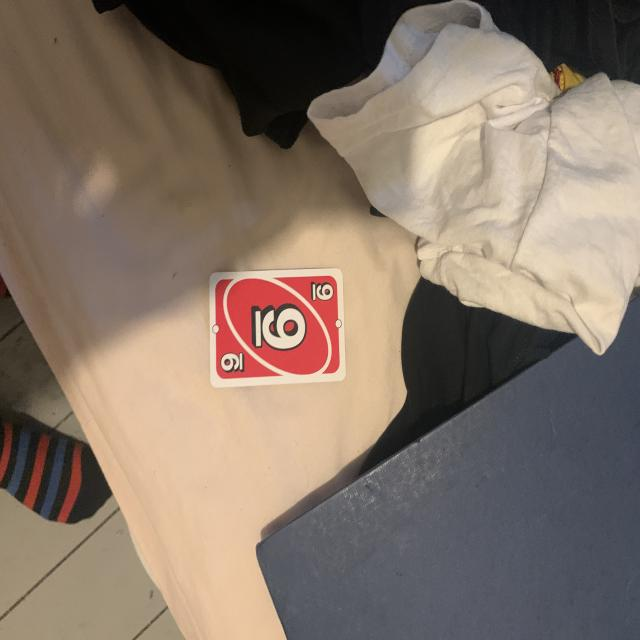lred-9: (309, 278, 336, 304)
